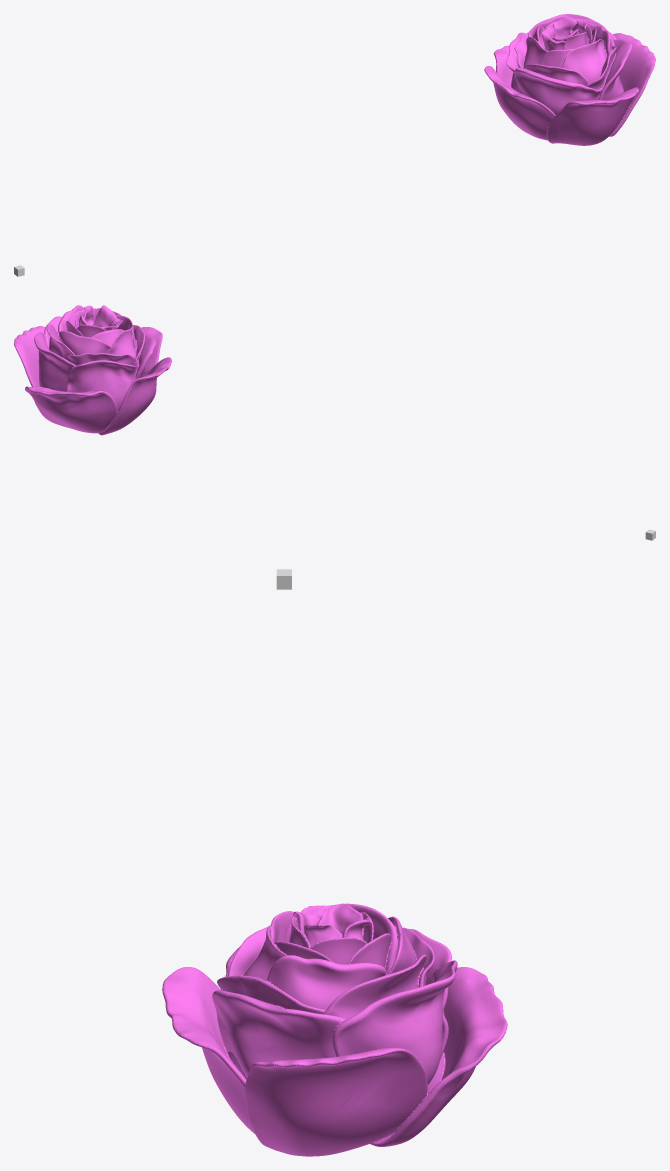
File: rose-web.glb
3 views of the same model, one above another, from view 1: azimuth 30°, elevation 25°; view 2: azimuth 150°, elevation 25°; view 3: azimuth 270°, elevation 25° (orthographic). The views are drawn at different scales.
Visible parts, largest first — view 1: rosebud; view 2: rosebud; view 3: rosebud.
Part boxes in pixels (x1,y1,x2,y2): rosebud: (484,14,655,145); rosebud: (14,305,171,435); rosebud: (162,903,507,1156).
Size of the model in its own units: 187 by 30.34 by 45.09.
